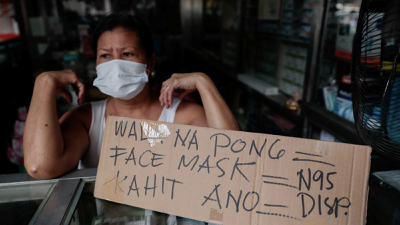with_mask: (93, 44, 150, 100)
